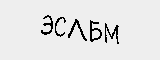Б: (89, 18, 102, 43)
Л: (66, 16, 86, 40)
М: (103, 22, 120, 46)
С: (55, 14, 67, 40)
Э: (41, 14, 54, 39)
